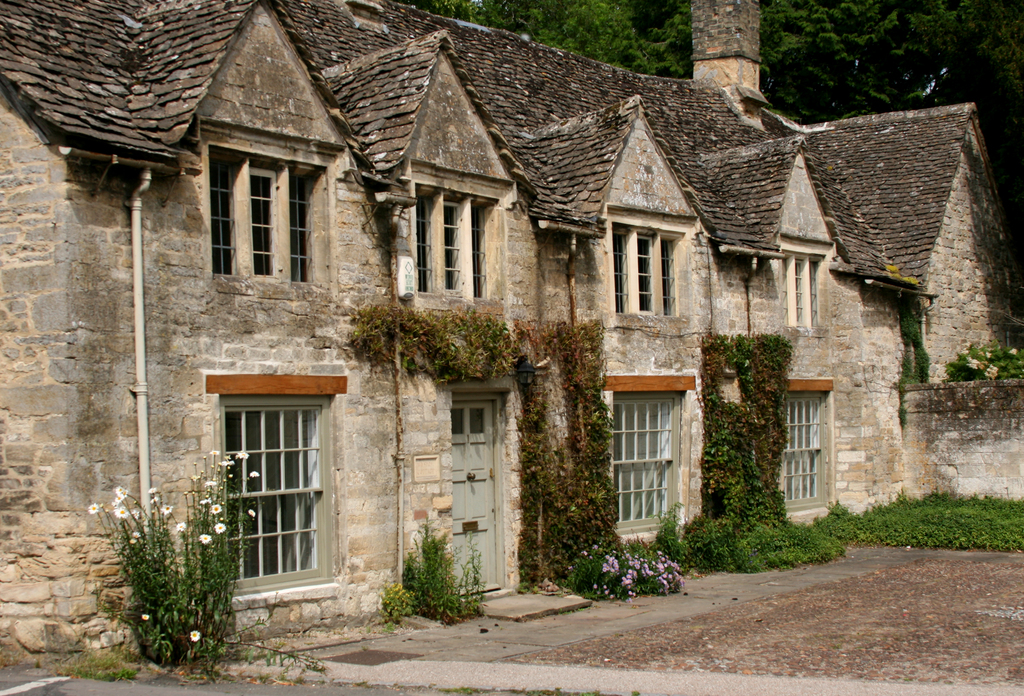Tree: (397, 0, 1024, 224)
